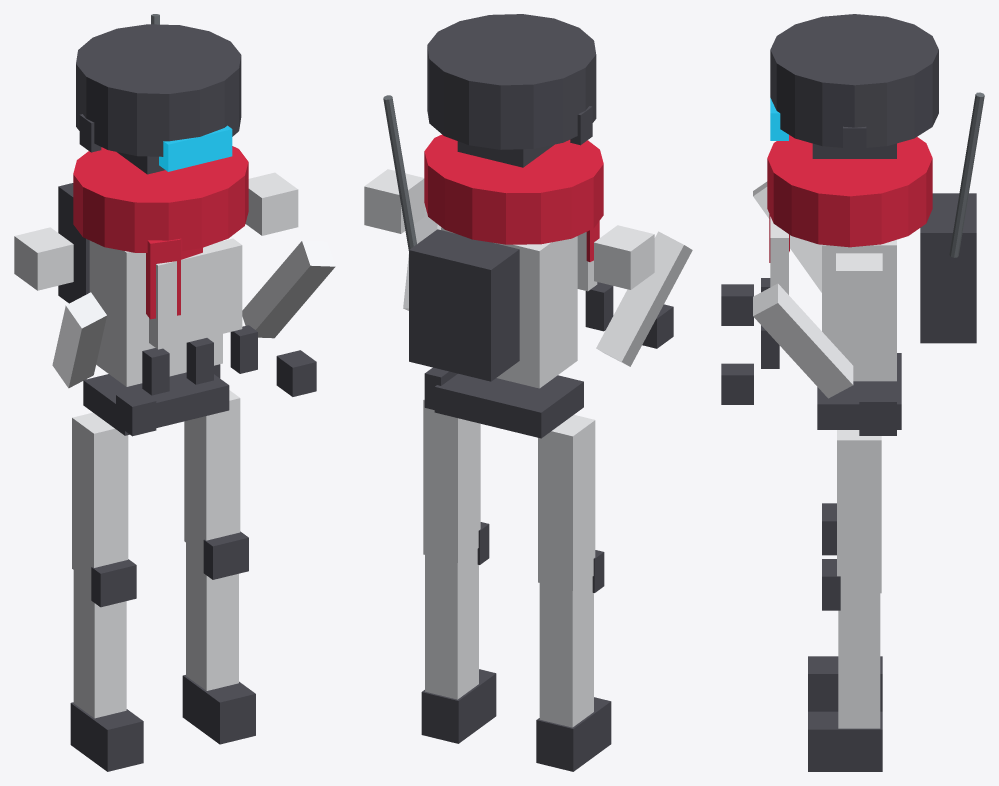
Rendered from player_operative.glb.
3 views of the same model, side by side, from view 1: azimuth 30°, elevation 25°; view 2: azimuth 150°, elevation 25°; view 3: azimuth 270°, elevation 25° (orthographic). The views are drawn at different scales.
Parts seen in each view (by area): view 1: Torso, Head, LegLeft, LegRight, Scarf, ArmRight, ArmLeft, Backpack; view 2: Head, LegLeft, LegRight, Torso, Backpack, Scarf, ArmLeft, ArmRight; view 3: Head, LegRight, Scarf, Torso, Backpack, ArmRight, ArmLeft, LegLeft.
Boxes of the visible parts, x1=… form: Torso: x1=83, y1=238, x2=257, y2=435; Head: x1=76, y1=24, x2=241, y2=174; LegLeft: x1=70, y1=412, x2=143, y2=771; LegRight: x1=182, y1=390, x2=255, y2=744; Scarf: x1=73, y1=146, x2=248, y2=319; ArmRight: x1=242, y1=172, x2=335, y2=396; ArmLeft: x1=14, y1=227, x2=156, y2=436; Backpack: x1=58, y1=14, x2=159, y2=303; Head: x1=427, y1=14, x2=596, y2=167; LegLeft: x1=536, y1=415, x2=611, y2=771; LegRight: x1=421, y1=399, x2=496, y2=743; Torso: x1=424, y1=227, x2=613, y2=438; Backpack: x1=383, y1=95, x2=519, y2=381; Scarf: x1=424, y1=134, x2=603, y2=261; ArmLeft: x1=594, y1=225, x2=692, y2=366; ArmRight: x1=364, y1=169, x2=440, y2=310; Head: x1=770, y1=14, x2=938, y2=158; LegRight: x1=808, y1=430, x2=882, y2=771; Scarf: x1=767, y1=135, x2=932, y2=262; Torso: x1=761, y1=216, x2=901, y2=435; Backpack: x1=920, y1=92, x2=984, y2=343; ArmRight: x1=721, y1=253, x2=882, y2=404; ArmLeft: x1=721, y1=181, x2=821, y2=325; LegLeft: x1=808, y1=503, x2=882, y2=711.
Size of the model in its own units: 0.6518 by 1.62 by 0.5627.
